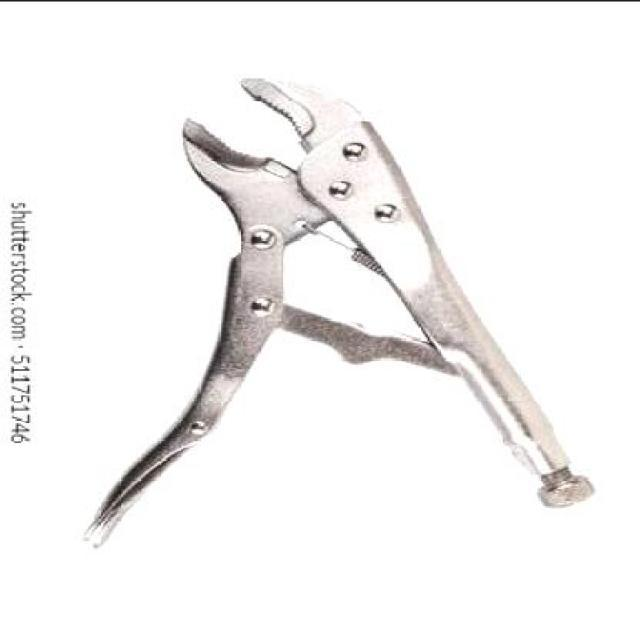pliers: (72, 63, 605, 554)
